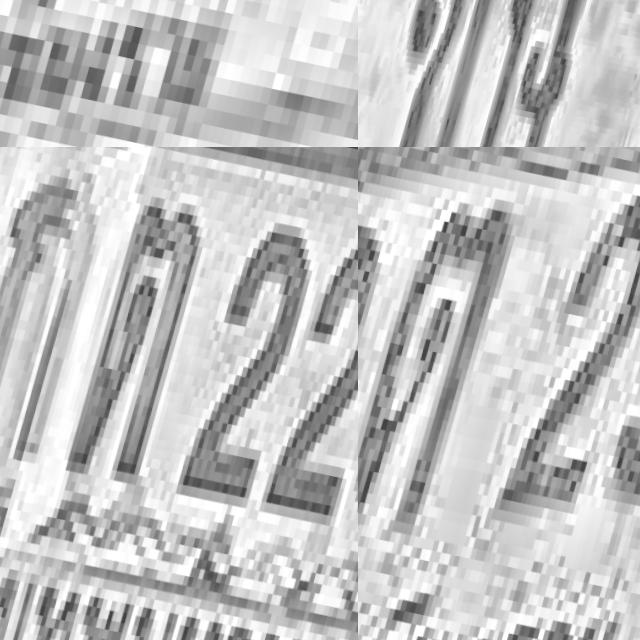license-plate: (0, 147, 358, 640), (358, 147, 640, 640), (0, 0, 358, 147), (358, 0, 640, 147)
